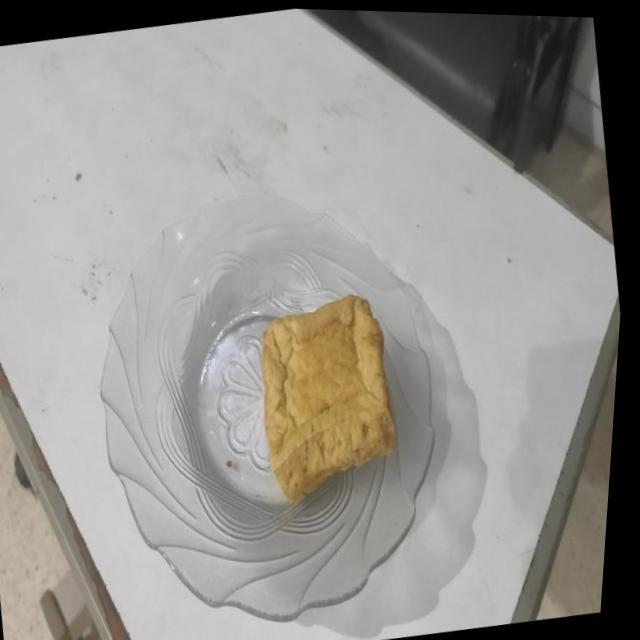tahu_goreng: (262, 295, 396, 501)
